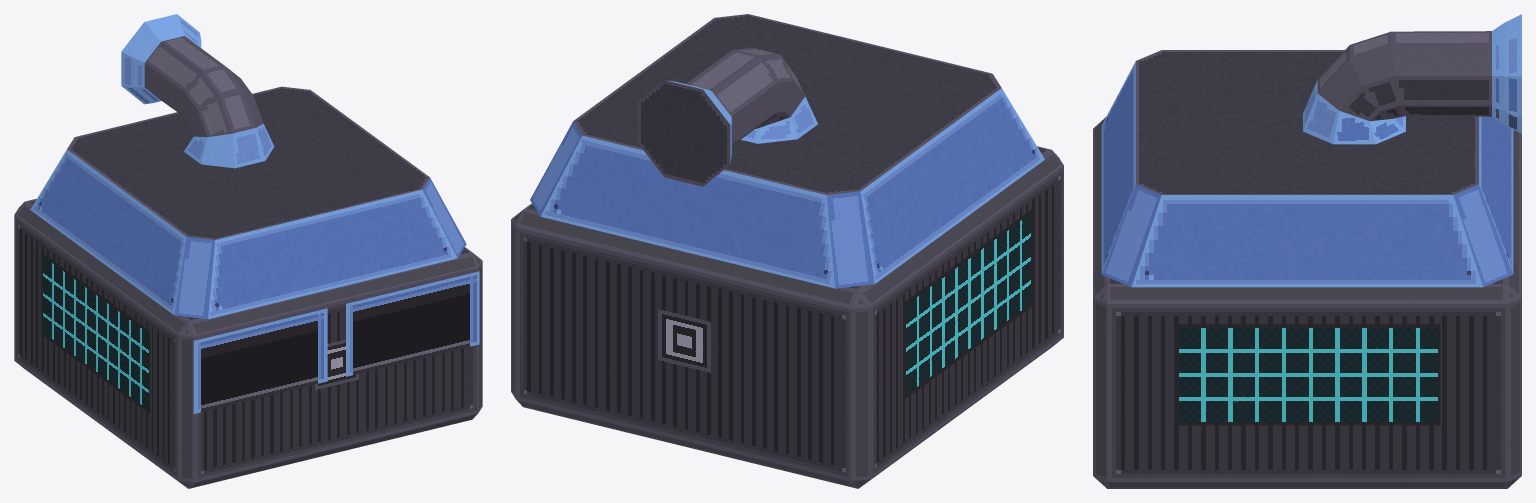
Rendered from fabricator.glb.
3 renders of one model, left to right at view 1: azimuth 30°, elevation 25°; view 2: azimuth 150°, elevation 25°; view 3: azimuth 270°, elevation 25°, orthographic. The views are drawn at different scales.
Visible parts, largest first — view 1: fabricator_body; view 2: fabricator_body; view 3: fabricator_body.
Part boxes in pixels (x1,y1,x2,y2): fabricator_body: [14, 14, 482, 488]; fabricator_body: [511, 14, 1063, 488]; fabricator_body: [1093, 14, 1521, 488].
Size of the model in its own units: 2.01 by 1.96 by 2.
Materials: 1 (1 with a texture image).
